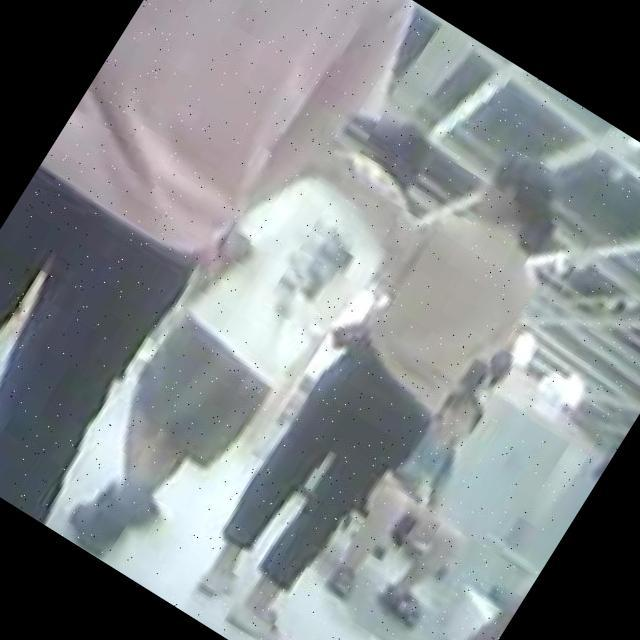person: (36, 67, 466, 612), (0, 0, 425, 551), (175, 114, 603, 640), (322, 378, 535, 636), (372, 533, 544, 640), (558, 436, 616, 508)
